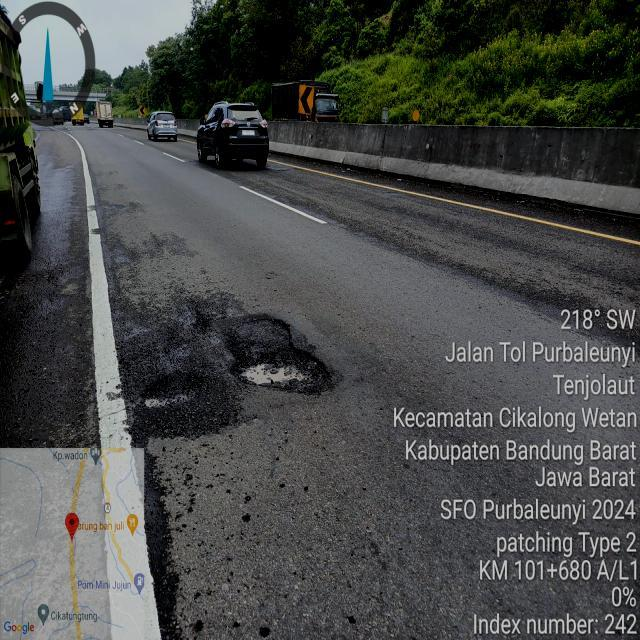Buraco: (220, 312, 339, 399), (135, 367, 207, 412)
